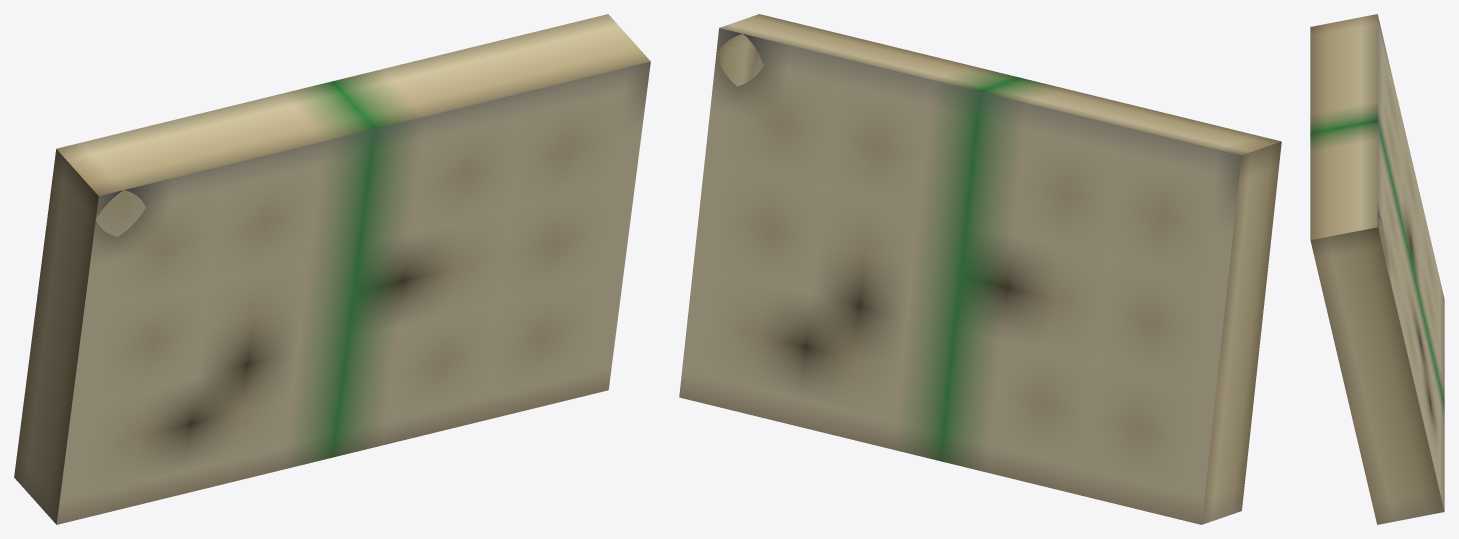
Rendered from era1_card_deck_2_double_sided.obj.
3 renders of one model, left to right at view 1: azimuth 30°, elevation 25°; view 2: azimuth 150°, elevation 25°; view 3: azimuth 270°, elevation 25°, orthographic. The views are drawn at different scales.
Visible parts, largest first — view 1: era1_card_deck_2; view 2: era1_card_deck_2; view 3: era1_card_deck_2.
Part boxes in pixels (left/top/right/bottom): era1_card_deck_2: left=14, top=14, right=650, bottom=524; era1_card_deck_2: left=679, top=14, right=1281, bottom=524; era1_card_deck_2: left=1310, top=14, right=1444, bottom=524.
Bounding box in the file's own units: 0.6875 × 0.4474 × 0.1827.
